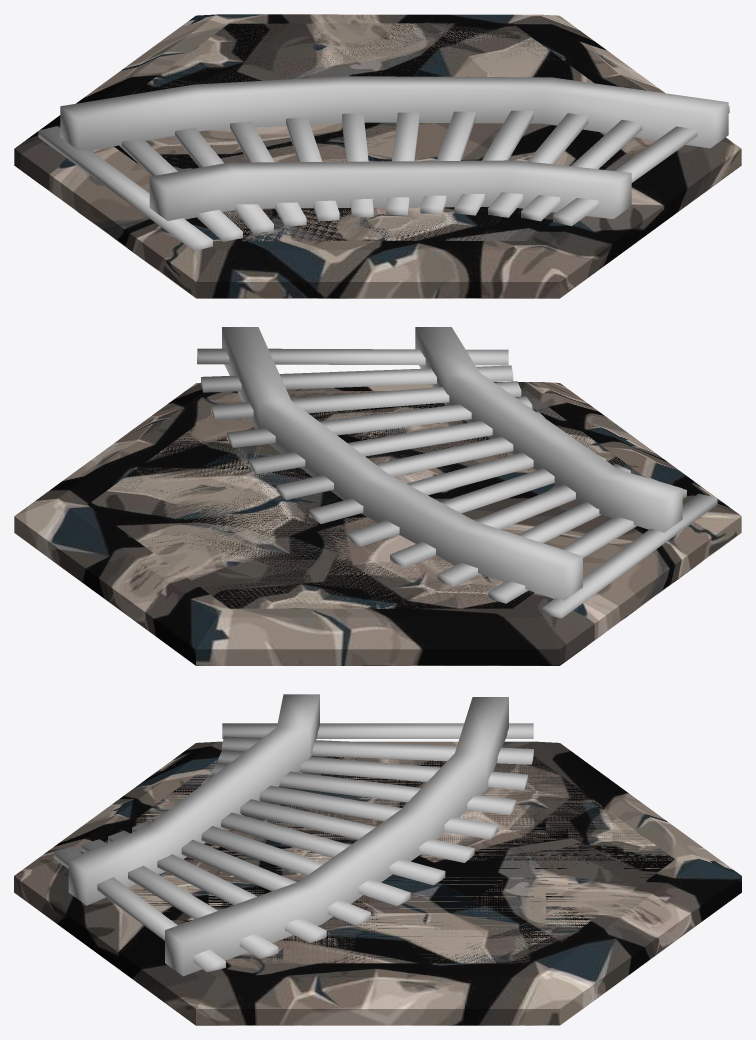
File: TileCurvoPedra.fbx
3 renders of one model, top to bottom at view 1: azimuth 30°, elevation 25°; view 2: azimuth 150°, elevation 25°; view 3: azimuth 270°, elevation 25°, orthographic.
Visible parts, largest first — view 1: TileCurvo; view 2: TileCurvo; view 3: TileCurvo.
Boxes of the visible parts, x1,y1,x2,y2 form: TileCurvo: (14, 14, 741, 298); TileCurvo: (14, 327, 741, 665); TileCurvo: (14, 694, 741, 1025).
Size of the model in its own units: 173 by 22 by 200.
